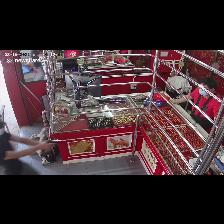person: (0, 122, 53, 174), (186, 88, 220, 120), (31, 50, 44, 80), (116, 50, 133, 54)
